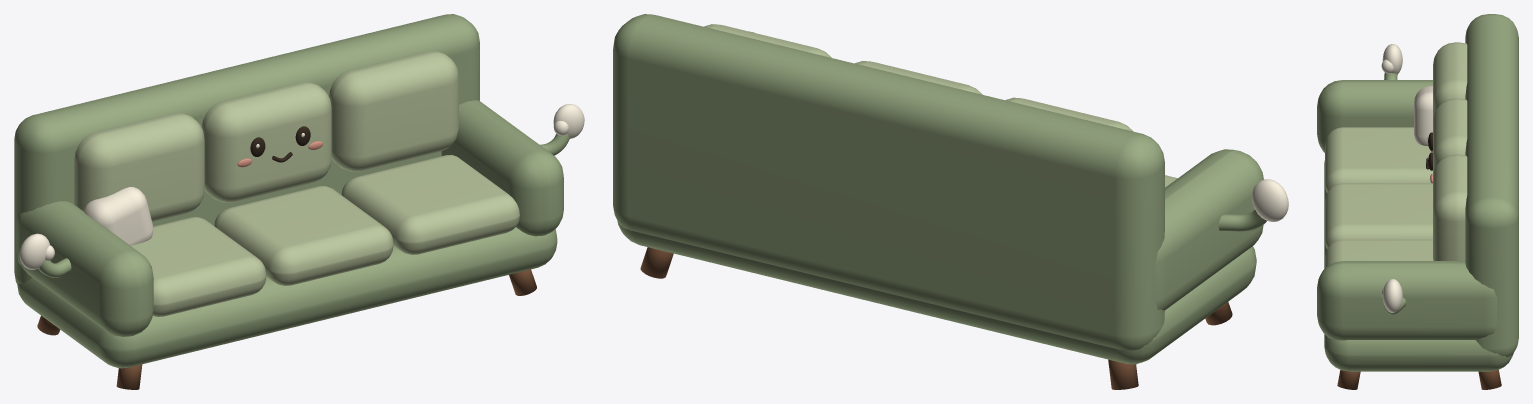
File: sofa.glb
3 renders of one model, left to right at view 1: azimuth 30°, elevation 25°; view 2: azimuth 150°, elevation 25°; view 3: azimuth 270°, elevation 25°, orthographic. The views are drawn at different scales.
Visible parts, largest first — view 1: Спинка, Основание, Подушка спинки.002, Подушка спинки.001, Подушка сиденья.001, Подушка сиденья.002, Подлокотник, Подушка спинки, Подушка сиденья, Подлокотник.001, Декоративная подушка, Face_Hand (+3 smaller); view 2: Спинка, Основание, Подлокотник, Face_Hand, Подушка спинки, Подушка спинки.002, Подушка спинки.001, Face_Arm, Ножка.003, Ножка.001; view 3: Спинка, Подлокотник.001, Подушка сиденья.001, Подушка сиденья, Основание, Подлокотник, Подушка спинки.002, Подушка сиденья.002, Подушка спинки.001, Подушка спинки, Декоративная подушка, Face_Hand.001 (+3 smaller).
Part boxes in pixels (bbox=[...]): Спинка: bbox=[14, 14, 479, 283]; Основание: bbox=[17, 227, 557, 368]; Подушка спинки.002: bbox=[329, 50, 458, 171]; Подушка спинки.001: bbox=[201, 81, 331, 202]; Подушка сиденья.001: bbox=[214, 186, 393, 285]; Подушка сиденья.002: bbox=[341, 155, 519, 254]; Подлокотник: bbox=[16, 201, 153, 336]; Подушка спинки: bbox=[74, 112, 204, 221]; Подушка сиденья: bbox=[131, 217, 266, 316]; Подлокотник.001: bbox=[441, 100, 563, 236]; Декоративная подушка: bbox=[84, 187, 153, 245]; Face_Hand: bbox=[19, 233, 49, 269]; Спинка: bbox=[613, 14, 1164, 350]; Основание: bbox=[617, 221, 1256, 364]; Подлокотник: bbox=[1155, 149, 1263, 310]; Face_Hand: bbox=[1252, 179, 1288, 221]; Подушка спинки: bbox=[1006, 97, 1133, 131]; Подушка спинки.002: bbox=[704, 24, 831, 57]; Подушка спинки.001: bbox=[855, 61, 982, 94]; Face_Arm: bbox=[1218, 210, 1266, 231]; Ножка.003: bbox=[640, 247, 673, 278]; Ножка.001: bbox=[1108, 359, 1138, 389]; Спинка: bbox=[1465, 14, 1518, 356]; Подлокотник.001: bbox=[1317, 261, 1497, 340]; Подушка сиденья.001: bbox=[1325, 183, 1432, 249]; Подушка сиденья: bbox=[1325, 127, 1432, 192]; Основание: bbox=[1324, 160, 1513, 371]; Подлокотник: bbox=[1317, 80, 1432, 152]; Подушка спинки.002: bbox=[1433, 154, 1467, 260]; Подушка сиденья.002: bbox=[1325, 239, 1433, 267]; Подушка спинки.001: bbox=[1433, 98, 1467, 175]; Подушка спинки: bbox=[1433, 42, 1467, 119]; Декоративная подушка: bbox=[1414, 86, 1432, 146]; Face_Hand.001: bbox=[1382, 279, 1402, 312].
Bounding box in the file's own units: 3.73 × 1.37 × 1.28.
